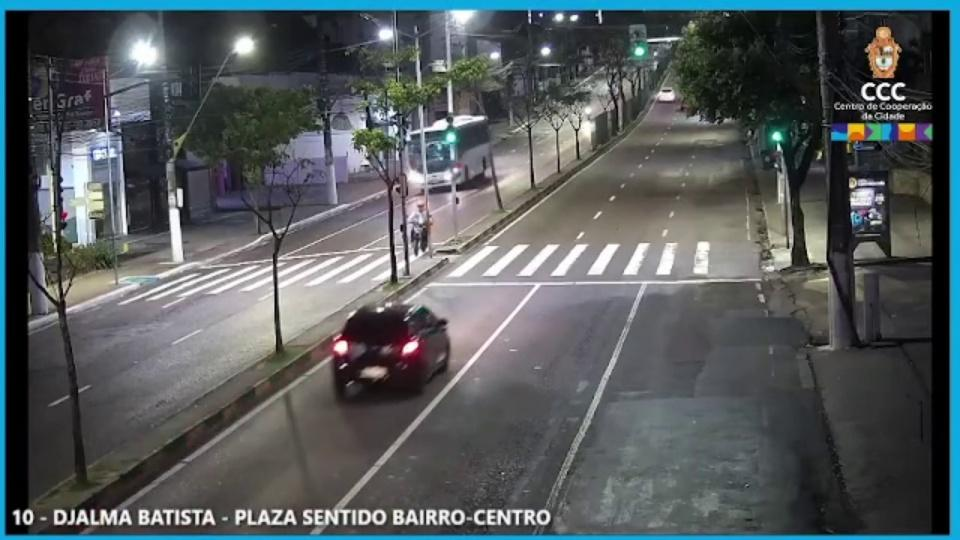biker: (405, 194, 433, 258)
car: (329, 291, 451, 410)
truck: (402, 117, 493, 192)
